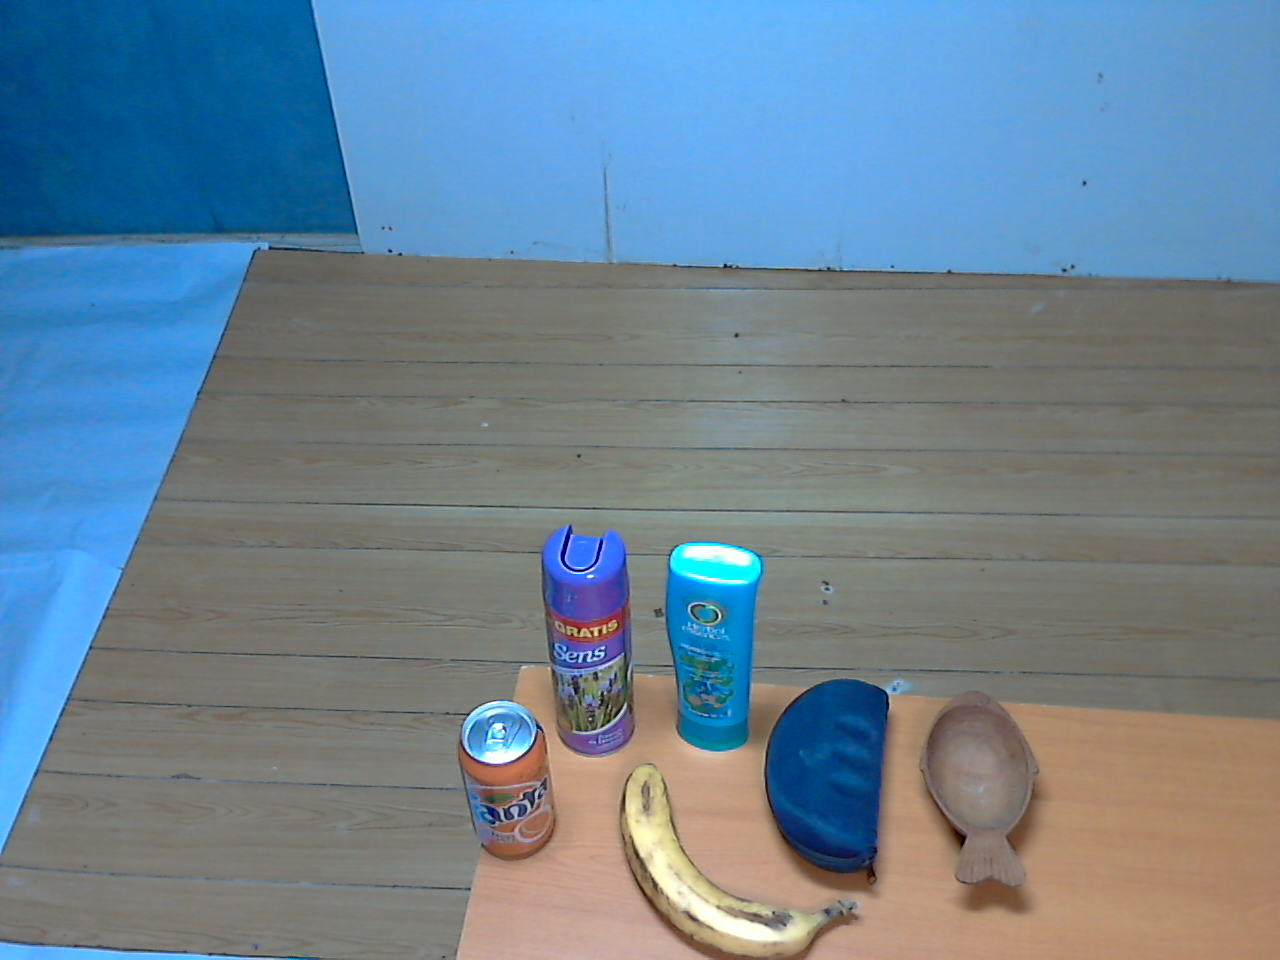aerosol: (530, 517, 651, 764)
balsamo: (657, 536, 766, 766)
estuche: (754, 661, 904, 885)
lata: (456, 694, 559, 869)
pescado: (913, 679, 1052, 903)
platano: (610, 751, 868, 960)
